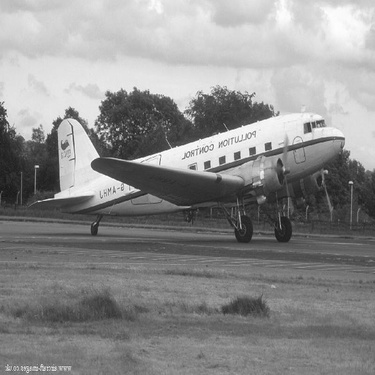airplane: (33, 108, 352, 246)
